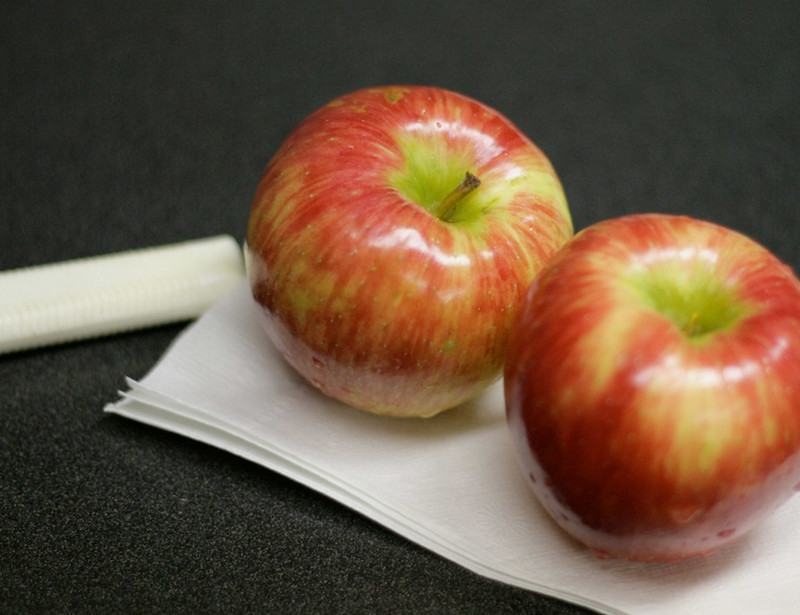apple: (240, 75, 573, 425), (522, 207, 800, 572)
